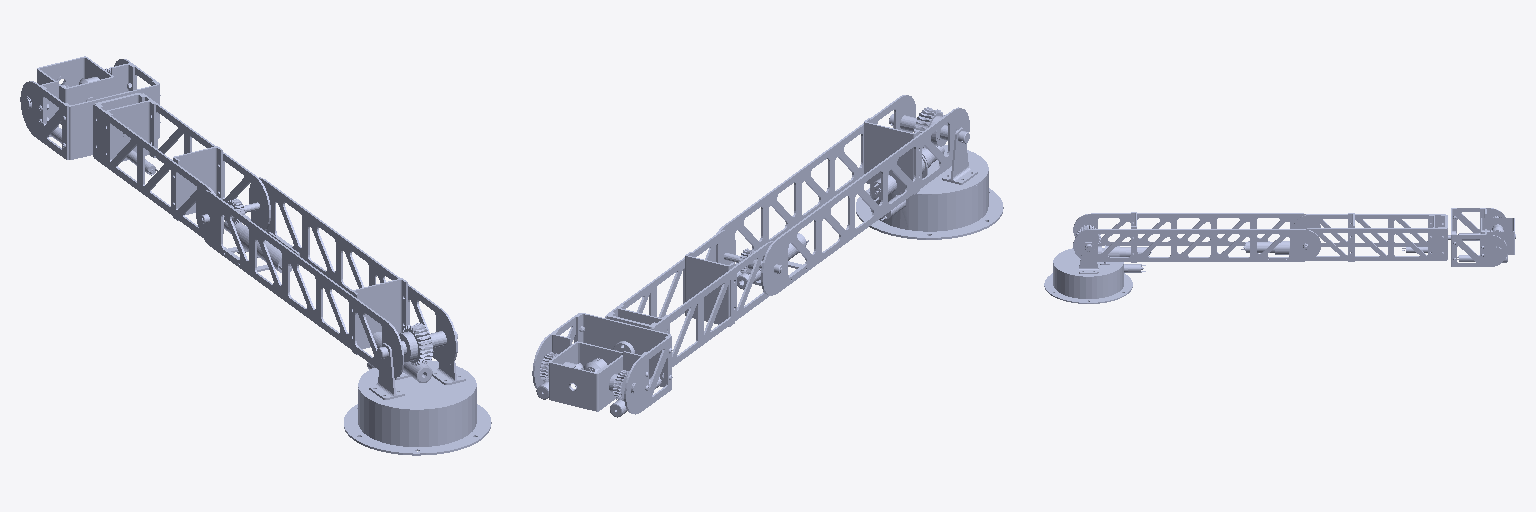
robot.urdf — HD15:
<?xml version="1.0" encoding="utf-8"?>
<!-- This URDF was automatically created by SolidWorks to URDF Exporter! Originally created by [author] ([email redacted]) 
     Commit Version: 1.6.0-1-g15f4949  Build Version: 1.6.7594.29634
     For more information, please see http://wiki.ros.org/sw_urdf_exporter -->
<robot
  name="HD15">
<link name="dummy">
   </link>
  <link
    name="base_link">
    <inertial>
      <origin
        xyz="4.15198377587444E-09 0.00600805147496701 0.0154110766377321"
        rpy="0 0 0" />
      <mass
        value="0.225048338313955" />
      <inertia
        ixx="0.000667232431159203"
        ixy="-1.75204647131704E-09"
        ixz="6.48582841544765E-11"
        iyy="0.000590074463313829"
        iyz="-2.39213569869332E-05"
        izz="0.00111700163892588" />
    </inertial>
    <visual>
      <origin
        xyz="0 0 0"
        rpy="0 0 0" />
      <geometry>
        <mesh
          filename="base_link.STL" />
      </geometry>
      <material
        name="">
        <color
          rgba="0.792156862745098 0.819607843137255 0.933333333333333 1" />
      </material>
    </visual>
    <collision>
      <origin
        xyz="0 0 0"
        rpy="0 0 0" />
      <geometry>
        <mesh
          filename="base_link.STL" />
      </geometry>
    </collision>
  </link>
  <joint name="dummy_joint" type="fixed">
     <parent link="dummy"/>
     <child link="base_link"/>
   </joint>
  <link
    name="Link_B">
    <inertial>
      <origin
        xyz="2.33121475821239E-06 0.0133974549441221 -0.00113959391343854"
        rpy="0 0 0" />
      <mass
        value="0.195776104192155" />
      <inertia
        ixx="0.00037151158802518"
        ixy="3.57391770255336E-09"
        ixz="-1.14510206503241E-08"
        iyy="0.000260641810434184"
        iyz="-6.47724249845848E-05"
        izz="0.000369007601869207" />
    </inertial>
    <visual>
      <origin
        xyz="0 0 0"
        rpy="0 0 0" />
      <geometry>
        <mesh
          filename="Link_B.STL" />
      </geometry>
      <material
        name="">
        <color
          rgba="0.792156862745098 0.819607843137255 0.933333333333333 1" />
      </material>
    </visual>
    <collision>
      <origin
        xyz="0 0 0"
        rpy="0 0 0" />
      <geometry>
        <mesh
          filename="Link_B.STL" />
      </geometry>
    </collision>
  </link>
  <joint
    name="Joint_B"
    type="revolute">
    <origin
      xyz="0 -6.3732E-05 0.057"
      rpy="0 0 0" />
    <parent
      link="base_link" />
    <child
      link="Link_B" />
    <axis
      xyz="0 0 1" />
    <limit
      lower="-3.14"
      upper="3.14"
      effort="0"
      velocity="0" />
  </joint>
  <link
    name="Link_L">
    <inertial>
      <origin
        xyz="-0.000560859740205511 0.00533997118052245 0.213660387419357"
        rpy="0 0 0" />
      <mass
        value="0.321188945587439" />
      <inertia
        ixx="0.0118715691832119"
        ixy="-9.81413327417368E-07"
        ixz="-3.88389552753312E-05"
        iyy="0.0120340387983652"
        iyz="-0.000369407889610094"
        izz="0.000519207054090904" />
    </inertial>
    <visual>
      <origin
        xyz="0 0 0"
        rpy="0 0 0" />
      <geometry>
        <mesh
          filename="Link_L.STL" />
      </geometry>
      <material
        name="">
        <color
          rgba="0.792156862745098 0.819607843137255 0.933333333333333 1" />
      </material>
    </visual>
    <collision>
      <origin
        xyz="0 0 0"
        rpy="0 0 0" />
      <geometry>
        <mesh
          filename="Link_L.STL" />
      </geometry>
    </collision>
  </link>
  <joint
    name="Joint_L"
    type="revolute">
    <origin
      xyz="0 6.37316895830578E-05 0.0620000000000001"
      rpy="-1.570796326794897 0 0" />
    <parent
      link="Link_B" />
    <child
      link="Link_L" />
    <axis
      xyz="1 0 0" />
    <limit
      lower="-3.14"
      upper="3.14"
      effort="0"
      velocity="0" />
  </joint>
  <link
    name="Link_U">
    <inertial>
      <origin
        xyz="-0.000125159345751575 0.000986274085085861 0.178341257593513"
        rpy="0 0 0" />
      <mass
        value="0.206991170097614" />
      <inertia
        ixx="0.00313671170173883"
        ixy="-2.56428079267485E-08"
        ixz="-4.62041167196231E-06"
        iyy="0.00320425189687694"
        iyz="-2.4732756309112E-05"
        izz="0.000309068037644153" />
    </inertial>
    <visual>
      <origin
        xyz="0 0 0"
        rpy="0 0 0" />
      <geometry>
        <mesh
          filename="Link_U.STL" />
      </geometry>
      <material
        name="">
        <color
          rgba="0.792156862745098 0.819607843137255 0.933333333333333 1" />
      </material>
    </visual>
    <collision>
      <origin
        xyz="0 0 0"
        rpy="0 0 0" />
      <geometry>
        <mesh
          filename="Link_U.STL" />
      </geometry>
    </collision>
  </link>
  <joint
    name="Joint_U"
    type="revolute">
    <origin
      xyz="0 0 0.49000000000015"
      rpy="0 0 0" />
    <parent
      link="Link_L" />
    <child
      link="Link_U" />
    <axis
      xyz="1 0 0" />
    <limit
      lower="-3.14"
      upper="3.14"
      effort="0"
      velocity="0" />
  </joint>
  <link
    name="Link_W1">
    <inertial>
      <origin
        xyz="-0.00557586157315859 3.06248505948107E-06 0.0481221096166089"
        rpy="0 0 0" />
      <mass
        value="0.15853707936973" />
      <inertia
        ixx="0.00084946148759409"
        ixy="1.0487090997576E-08"
        ixz="4.00351910340966E-05"
        iyy="0.00042085853484323"
        iyz="-2.16190125140588E-08"
        izz="0.000579515182746005" />
    </inertial>
    <visual>
      <origin
        xyz="0 0 0"
        rpy="0 0 0" />
      <geometry>
        <mesh
          filename="Link_W1.STL" />
      </geometry>
      <material
        name="">
        <color
          rgba="0.792156862745098 0.819607843137255 0.933333333333333 1" />
      </material>
    </visual>
    <collision>
      <origin
        xyz="0 0 0"
        rpy="0 0 0" />
      <geometry>
        <mesh
          filename="Link_W1.STL" />
      </geometry>
    </collision>
  </link>
  <joint
    name="Joint_W1"
    type="revolute">
    <origin
      xyz="-2.21415510546635E-05 0 0.327050000000298"
      rpy="0 0 -1.570796326794897" />
    <parent
      link="Link_U" />
    <child
      link="Link_W1" />
    <axis
      xyz="0 0 1" />
    <limit
      lower="-3.14"
      upper="3.14"
      effort="0"
      velocity="0" />
  </joint>
  <link
    name="Link_W2">
    <inertial>
      <origin
        xyz="1.13708146428542E-06 1.05864642315289E-07 -0.0029522829617743"
        rpy="0 0 0" />
      <mass
        value="0.198832886498719" />
      <inertia
        ixx="0.000363699833418115"
        ixy="5.4618053031833E-11"
        ixz="-2.89818886510803E-09"
        iyy="9.02807593331075E-05"
        iyz="1.81086096374364E-09"
        izz="0.000317706571914307" />
    </inertial>
    <visual>
      <origin
        xyz="0 0 0"
        rpy="0 0 0" />
      <geometry>
        <mesh
          filename="Link_W2.STL" />
      </geometry>
      <material
        name="">
        <color
          rgba="0.792156862745098 0.819607843137255 0.933333333333333 1" />
      </material>
    </visual>
    <collision>
      <origin
        xyz="0 0 0"
        rpy="0 0 0" />
      <geometry>
        <mesh
          filename="Link_W2.STL" />
      </geometry>
    </collision>
  </link>
  <joint
    name="Joint_W2"
    type="revolute">
    <origin
      xyz="0.00377214155074418 0 0.10600000000038"
      rpy="0 0 0" />
    <parent
      link="Link_W1" />
    <child
      link="Link_W2" />
    <axis
      xyz="0 1 0" />
    <limit
      lower="-3.14"
      upper="3.14"
      effort="0"
      velocity="0" />
  </joint>
  <link
    name="Link_G">
    <inertial>
      <origin
        xyz="0.00211486063330391 7.9626807220292E-07 0.135118039658178"
        rpy="0 0 0" />
      <mass
        value="0.225799596662121" />
      <inertia
        ixx="0.00128821377222038"
        ixy="1.05323037640045E-09"
        ixz="-1.36546254837585E-05"
        iyy="0.000917295554600868"
        iyz="-7.80189175963587E-07"
        izz="0.000432893201445843" />
    </inertial>
    <visual>
      <origin
        xyz="0 0 0"
        rpy="0 0 0" />
      <geometry>
        <mesh
          filename="Link_G.STL" />
      </geometry>
      <material
        name="">
        <color
          rgba="0.792156862745098 0.819607843137255 0.933333333333333 1" />
      </material>
    </visual>
    <collision>
      <origin
        xyz="0 0 0"
        rpy="0 0 0" />
      <geometry>
        <mesh
          filename="Link_G.STL" />
      </geometry>
    </collision>
  </link>
  <joint
    name="Joint_G"
    type="revolute">
    <origin
      xyz="3.9155227249506E-05 0 0.0468299999993098"
      rpy="0 0 0" />
    <parent
      link="Link_W2" />
    <child
      link="Link_G" />
    <axis
      xyz="0 0 1" />
    <limit
      lower="-3.14"
      upper="3.14"
      effort="0"
      velocity="0" />
  </joint>
</robot>

--- Render facts (derived) ---
Views: 3 orthographic renders of the robot side by side, from view 1: azimuth 30°, elevation 25°; view 2: azimuth 150°, elevation 25°; view 3: azimuth 270°, elevation 25°.
Model HD15 with 8 links and 7 joints (6 revolute, 1 fixed), rooted at dummy, posed every joint at zero.
Links seen in each view (by area): view 1: Link_L, Link_U, base_link, Link_W1, Link_B, Link_W2; view 2: Link_L, Link_U, Link_W1, base_link, Link_W2, Link_B; view 3: Link_L, Link_U, base_link, Link_W1, Link_B, Link_W2.
Link boxes in pixels (x1,y1,x2,y2): Link_L: [196, 177, 457, 377]; Link_U: [93, 93, 270, 237]; base_link: [344, 362, 491, 455]; Link_W1: [20, 59, 160, 159]; Link_B: [358, 332, 476, 410]; Link_W2: [24, 56, 113, 124]; Link_L: [711, 95, 969, 295]; Link_U: [605, 230, 783, 366]; Link_W1: [532, 313, 672, 417]; base_link: [856, 172, 1003, 239]; Link_W2: [540, 341, 638, 411]; Link_B: [870, 125, 988, 201]; Link_L: [1073, 212, 1320, 262]; Link_U: [1293, 213, 1447, 261]; base_link: [1044, 264, 1145, 303]; Link_W1: [1438, 208, 1507, 266]; Link_B: [1053, 242, 1151, 276]; Link_W2: [1479, 216, 1515, 254].
Size in the robot's own frame: 0.1998 by 1.06 by 0.164 metres.
6 mesh visuals loaded from 7 distinct referenced files (6 binary STL); not drawn: 1 (reference not matched to a file when rendering).